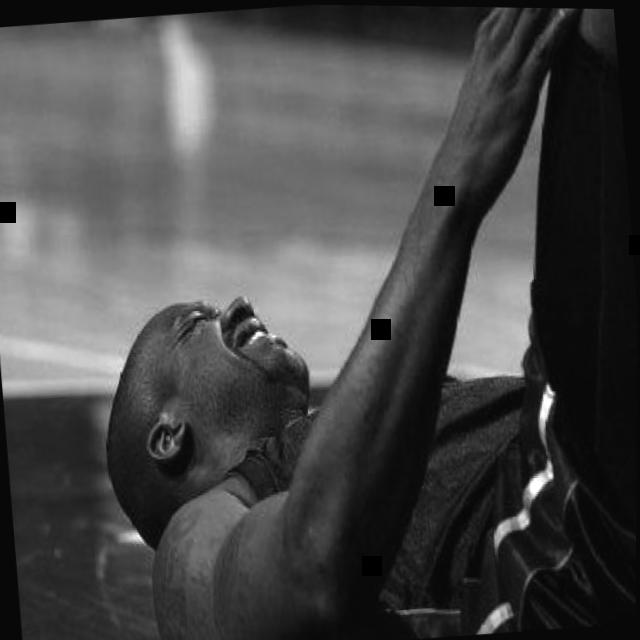Fall-Detected: (29, 0, 640, 640)
